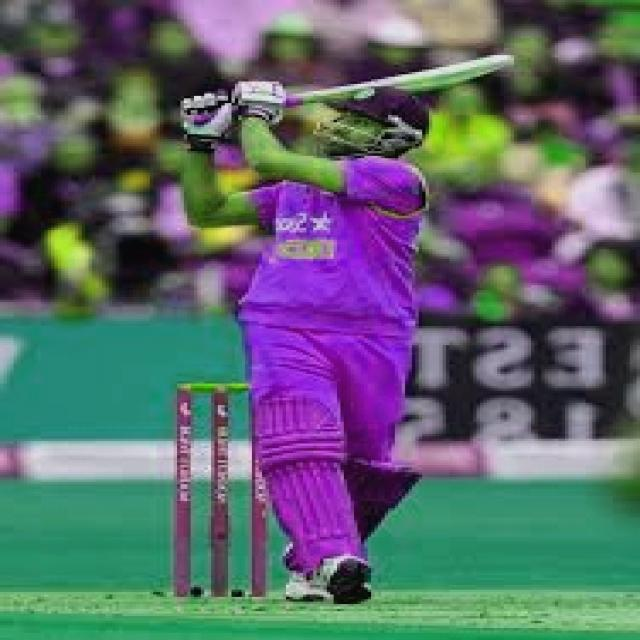toe: (488, 51, 512, 74)
